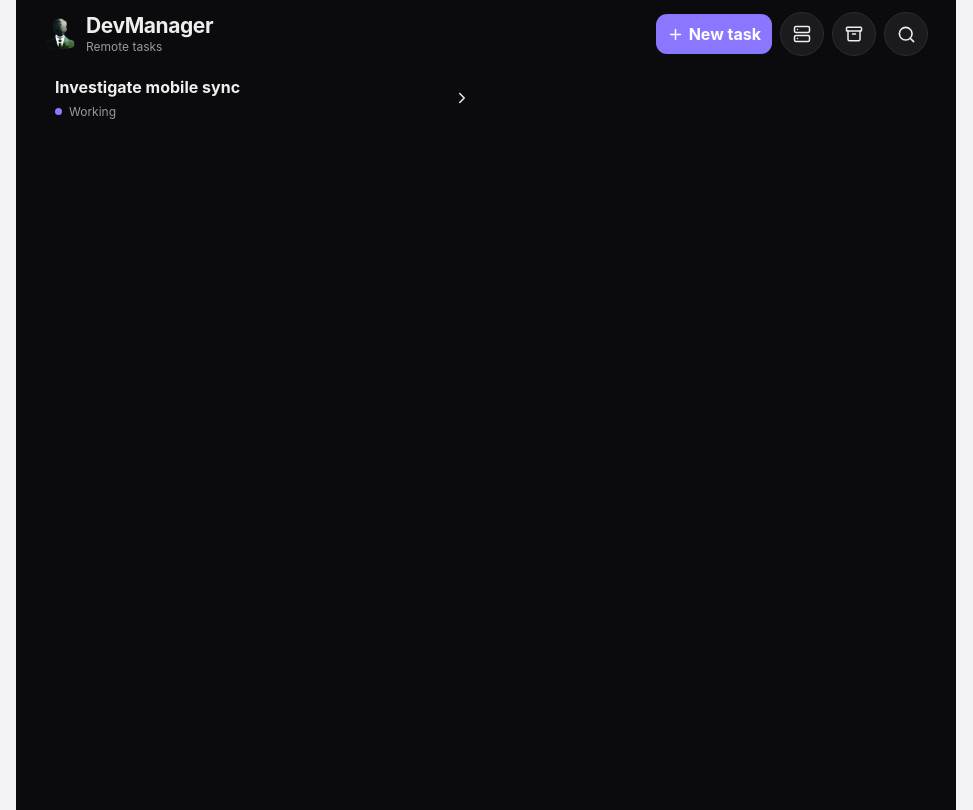
NativeRemoteApp › does not show a contradictory waiting message when the terminal is unavailable
Click the button "Investigate mobile sync Working" at coordinates (148, 87), box [44,62,482,134]
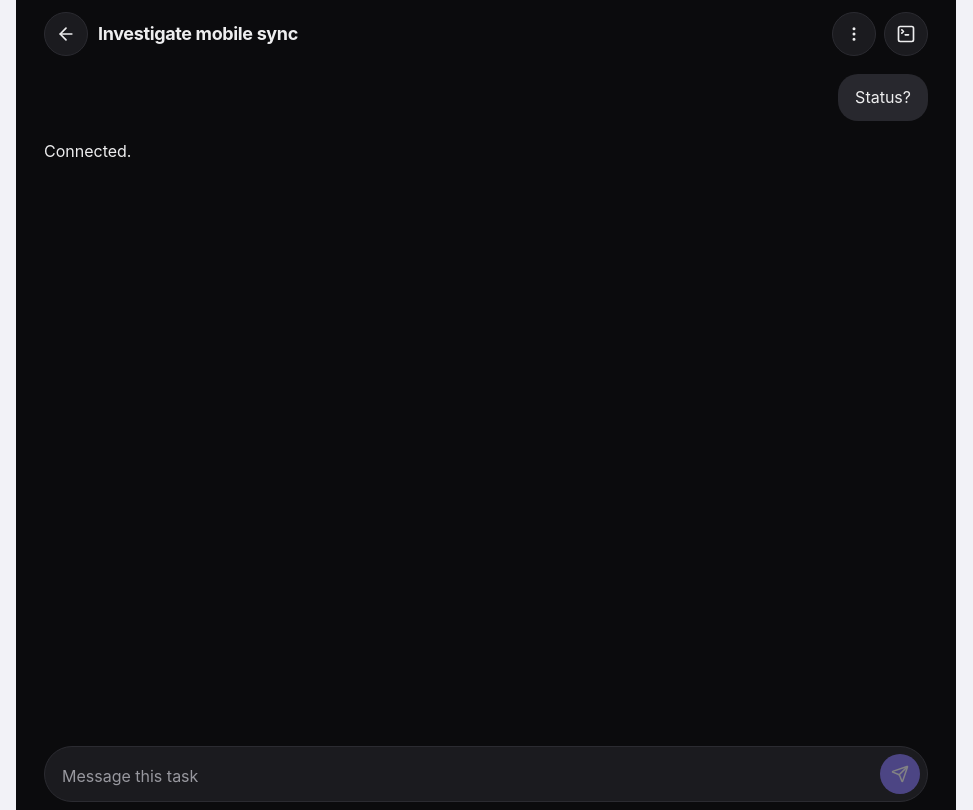
Click the button named "Show terminal" at coordinates (906, 34), box [884,12,928,56]
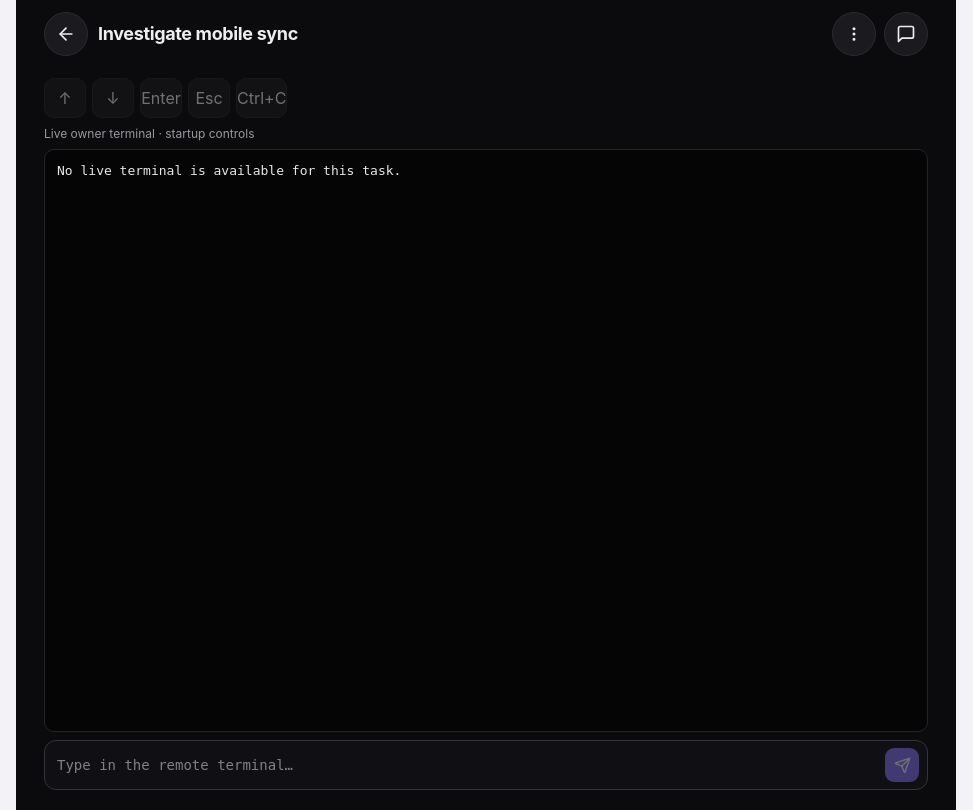
Expected: the text "No live terminal is available for this task." is shown
Expected: the button with aria-label "Terminal enter" is disabled, [140,78,182,118]
